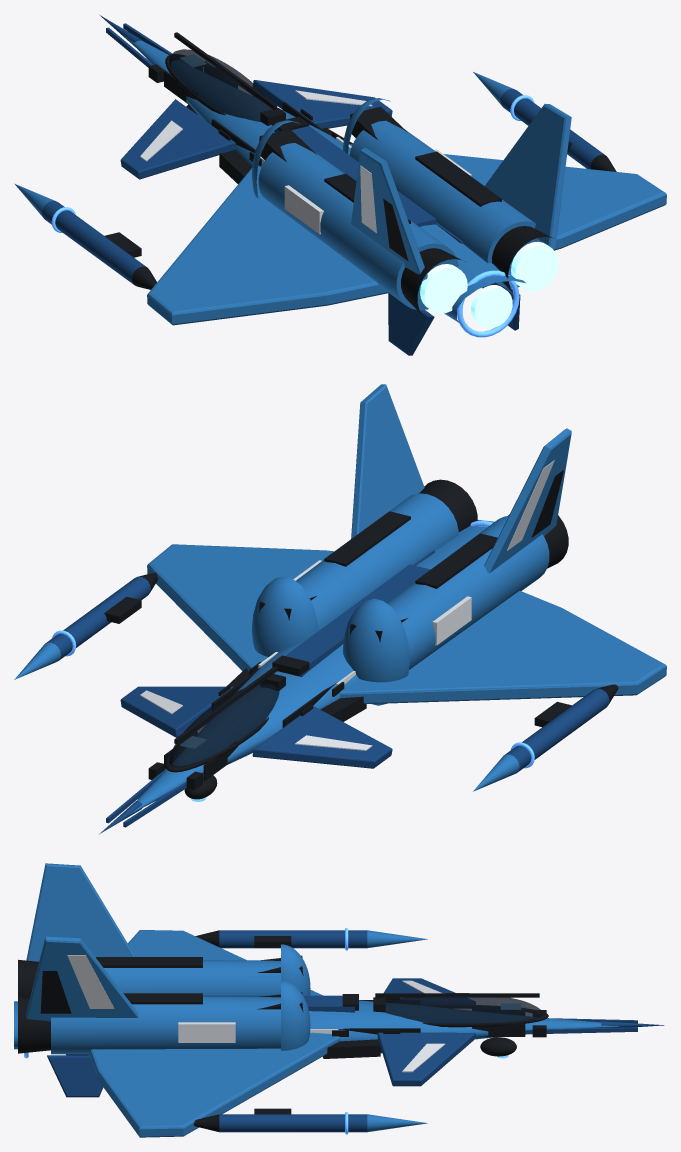
File: astra-interceptor.glb
3 renders of one model, top to bottom at view 1: azimuth 30°, elevation 25°; view 2: azimuth 150°, elevation 25°; view 3: azimuth 270°, elevation 25°, orthographic. The views are drawn at different scales.
Parts seen in each view (by area): view 1: wing_port, nacelle_port, nacelle_stbd, tail_fin_stbd, wing_stbd, fuselage, canard_port, canopy_glass, tail_fin_port, canard_stbd, wingtip_pod_port, spine_fairing (+20 smaller); view 2: wing_port, wing_stbd, fuselage, nacelle_stbd, nacelle_port, tail_fin_stbd, canard_port, nacelle_shoulder_port, canopy_glass, nacelle_shoulder_stbd, tail_fin_port, canard_stbd (+15 smaller); view 3: wing_stbd, nacelle_stbd, tail_fin_port, fuselage, nacelle_port, tail_fin_stbd, canopy_glass, canard_stbd, wingtip_pod_stbd, wing_port, wingtip_pod_port, ventral_strake_stbd (+21 smaller).
Part boxes in pixels (x1,y1,x2,y2): wing_port: (147,165,388,325); nacelle_port: (258,143,458,310); nacelle_stbd: (349,120,541,288); tail_fin_stbd: (485,103,571,248); wing_stbd: (349,144,666,250); fuselage: (124,36,525,325); canard_port: (120,99,236,179); canopy_glass: (169,49,272,121); tail_fin_port: (351,147,427,280); canard_stbd: (253,80,392,128); wingtip_pod_port: (42,200,147,284); spine_fairing: (275,126,436,226); wing_port: (339,591,666,704); wing_stbd: (147,544,333,671); fuselage: (130,520,494,814); nacelle_stbd: (296,493,458,630); nacelle_port: (386,516,549,669); tail_fin_stbd: (351,384,424,538); canard_port: (252,706,392,768); nacelle_shoulder_port: (342,598,409,705); canopy_glass: (169,683,279,766); nacelle_shoulder_stbd: (252,576,318,656); tail_fin_port: (484,428,571,573); canard_stbd: (120,686,233,737); wing_stbd: (88,1036,339,1137); nacelle_stbd: (51,996,280,1054); tail_fin_port: (26,863,135,961); fuselage: (14,1000,619,1049); nacelle_port: (104,960,280,995); tail_fin_stbd: (26,936,138,1021); canopy_glass: (385,993,542,1023); canard_stbd: (377,1032,475,1086); wingtip_pod_stbd: (219,1114,367,1132); wing_port: (128,930,322,995); wingtip_pod_port: (219,930,367,948); ventral_strake_stbd: (47,1055,103,1097).
Size of the model in its own units: 11.09 by 4.57 by 15.4.
